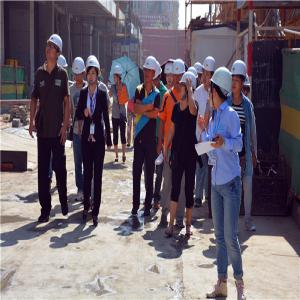white: (210, 68, 233, 110), (231, 60, 248, 98), (179, 72, 198, 102), (46, 34, 62, 64), (203, 56, 216, 87), (72, 55, 86, 83), (86, 58, 100, 86), (144, 57, 158, 85), (173, 60, 185, 88), (154, 62, 163, 88), (243, 74, 251, 98), (166, 64, 174, 87), (113, 66, 123, 84), (195, 63, 203, 85)
